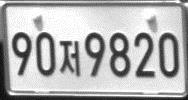0: (158, 32, 180, 78), (35, 31, 57, 76)
2: (133, 31, 156, 78)
8: (109, 31, 130, 78)
9: (10, 30, 33, 76), (85, 31, 106, 77)
저: (59, 39, 81, 77)
